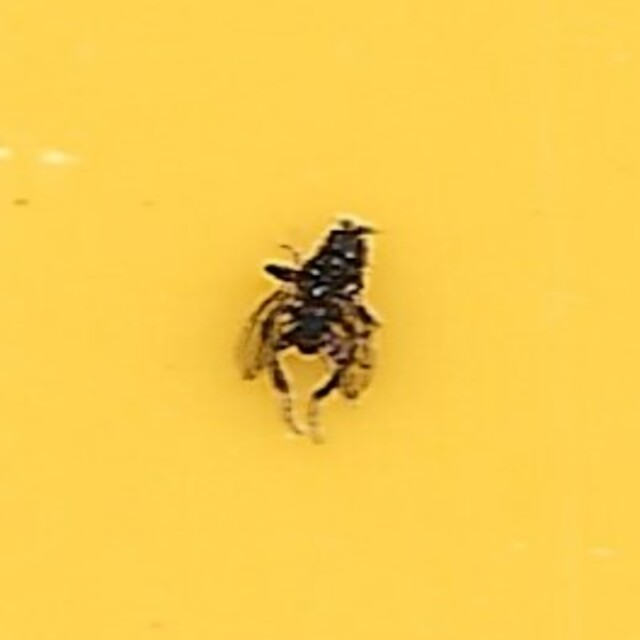Brachycera: (242, 213, 398, 427)
